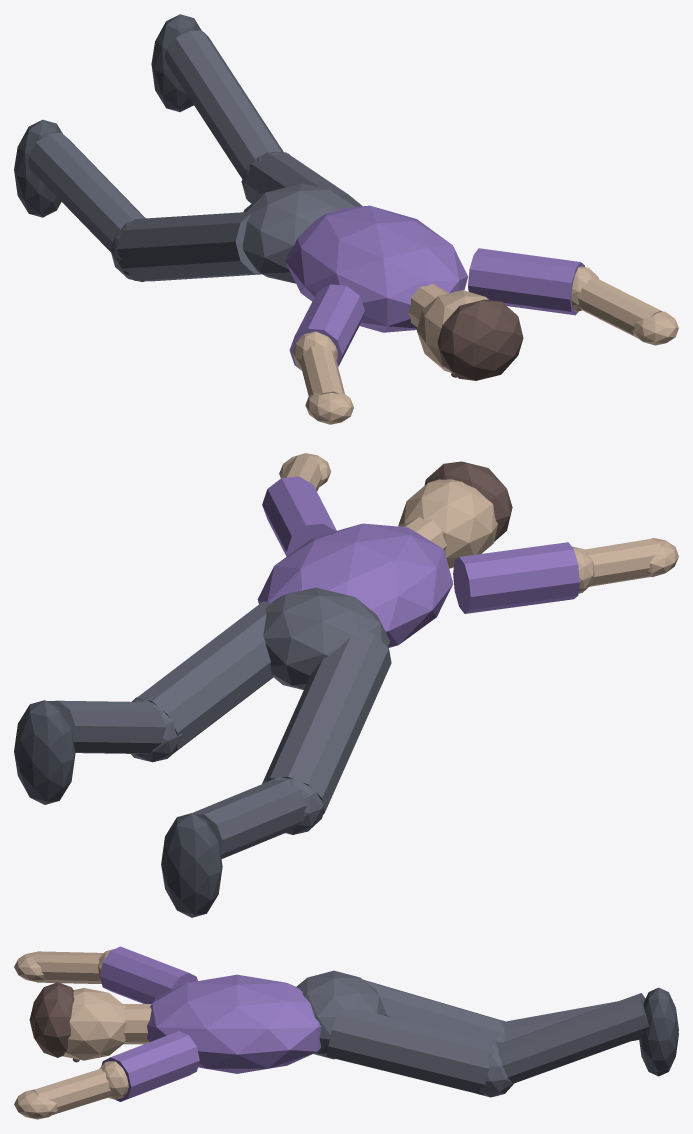
The picture shows the model from 3 angles, top to bottom: view 1: azimuth 30°, elevation 25°; view 2: azimuth 150°, elevation 25°; view 3: azimuth 270°, elevation 25°; orthographic projection. The views are drawn at different scales.
Visible parts, largest first — view 1: world; view 2: world; view 3: world.
Boxes of the visible parts, x1,y1,x2,y2 form: world: (14, 14, 678, 424); world: (14, 453, 678, 917); world: (14, 946, 678, 1119).
Bounding box in the file's own units: 1.17 × 0.52 × 2.13.
